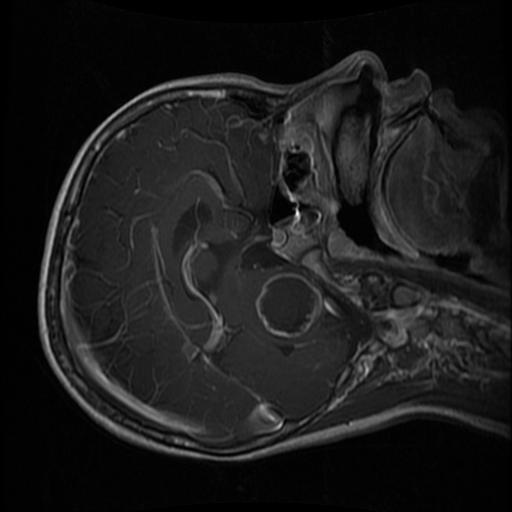glioma: (253, 272, 323, 338)
